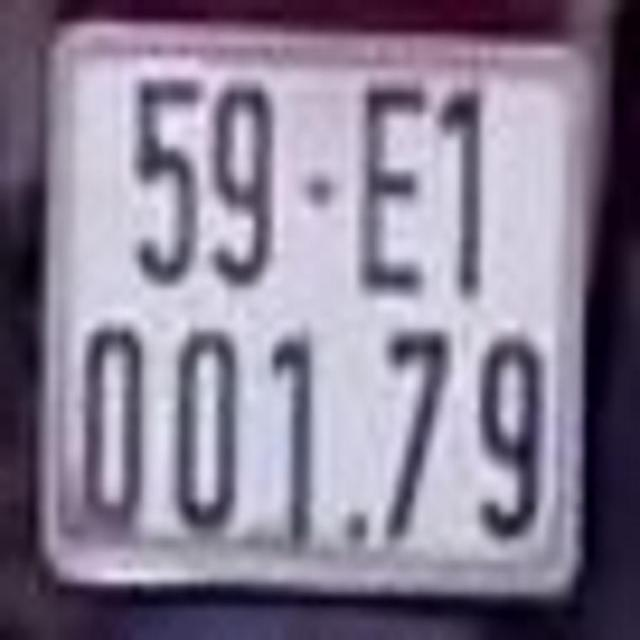0: (81, 316, 146, 526), (176, 329, 243, 528)
1: (378, 328, 455, 536), (439, 84, 492, 290), (274, 312, 321, 543)
5: (128, 76, 206, 294), (468, 334, 543, 546), (224, 100, 279, 292)
E: (360, 86, 434, 302)
